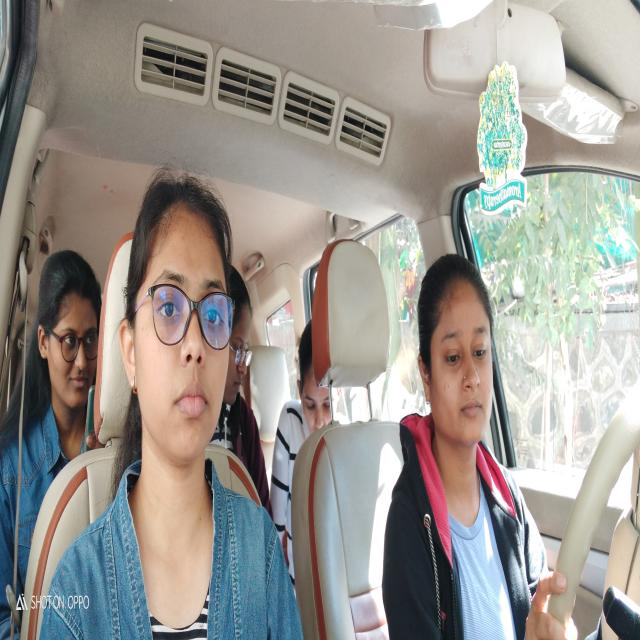person: (122, 165, 234, 482), (415, 246, 499, 454), (35, 243, 101, 427), (296, 306, 340, 440), (227, 259, 256, 407)
